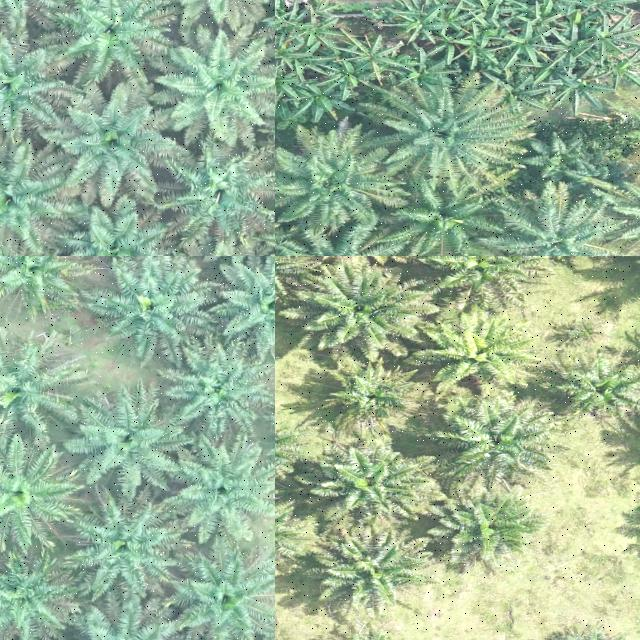Ganoderma: (435, 325, 523, 380)
